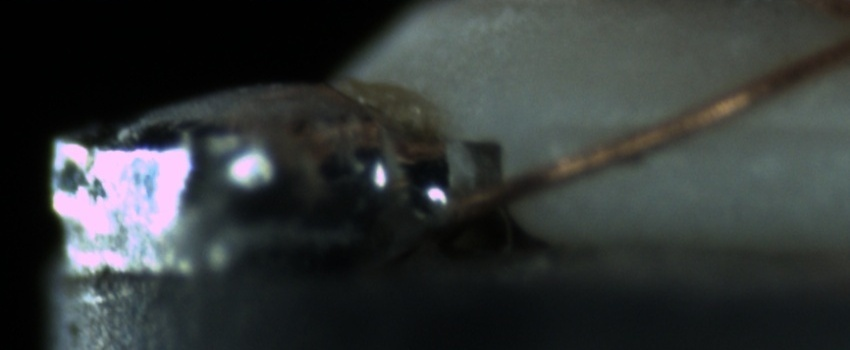DL: (553, 95, 850, 163)
